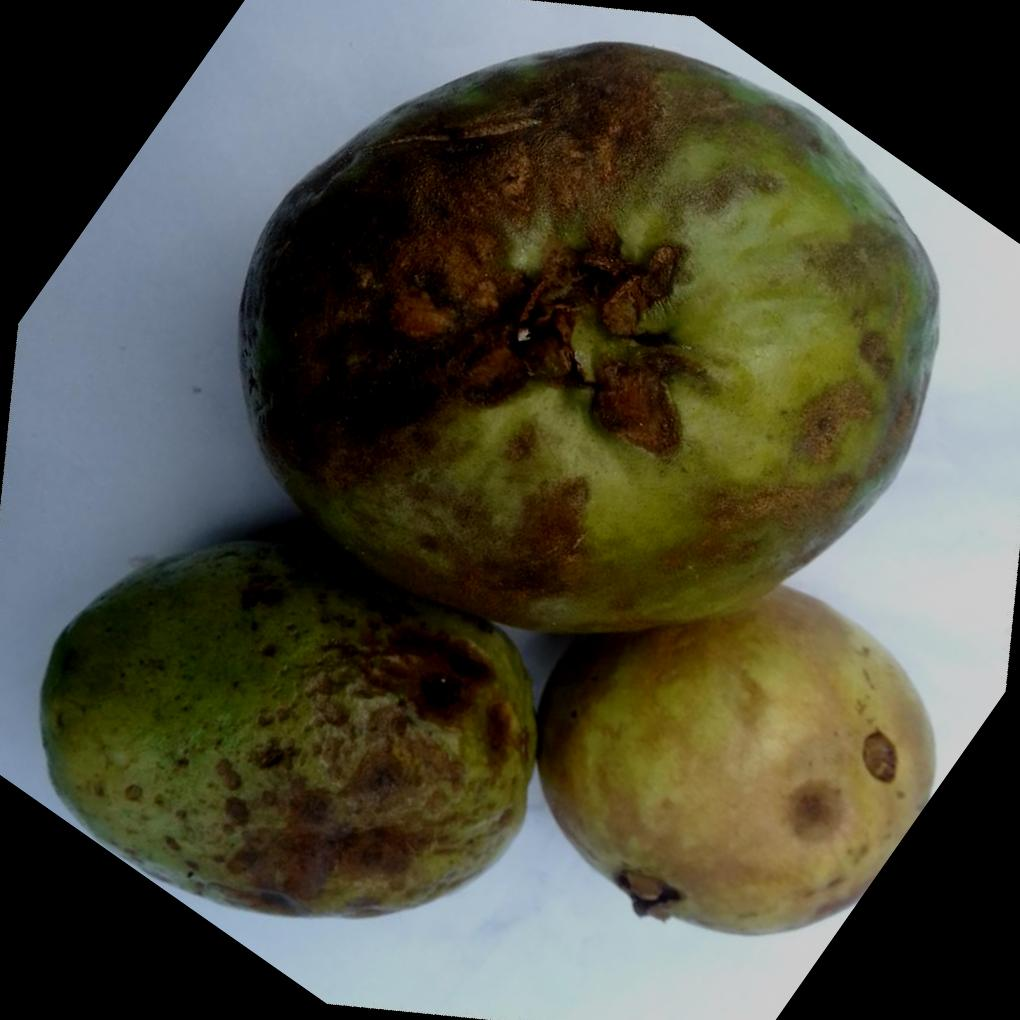FreshOrange: (36, 42, 939, 941)
